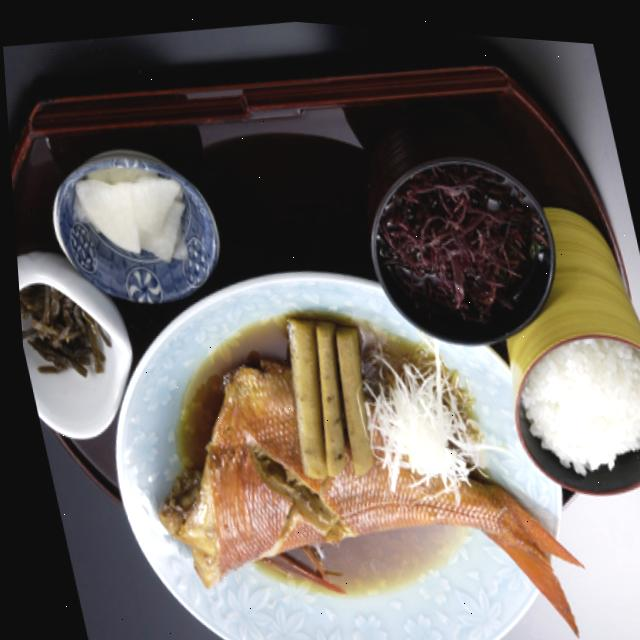熟制海鲜: (26, 218, 407, 640)
